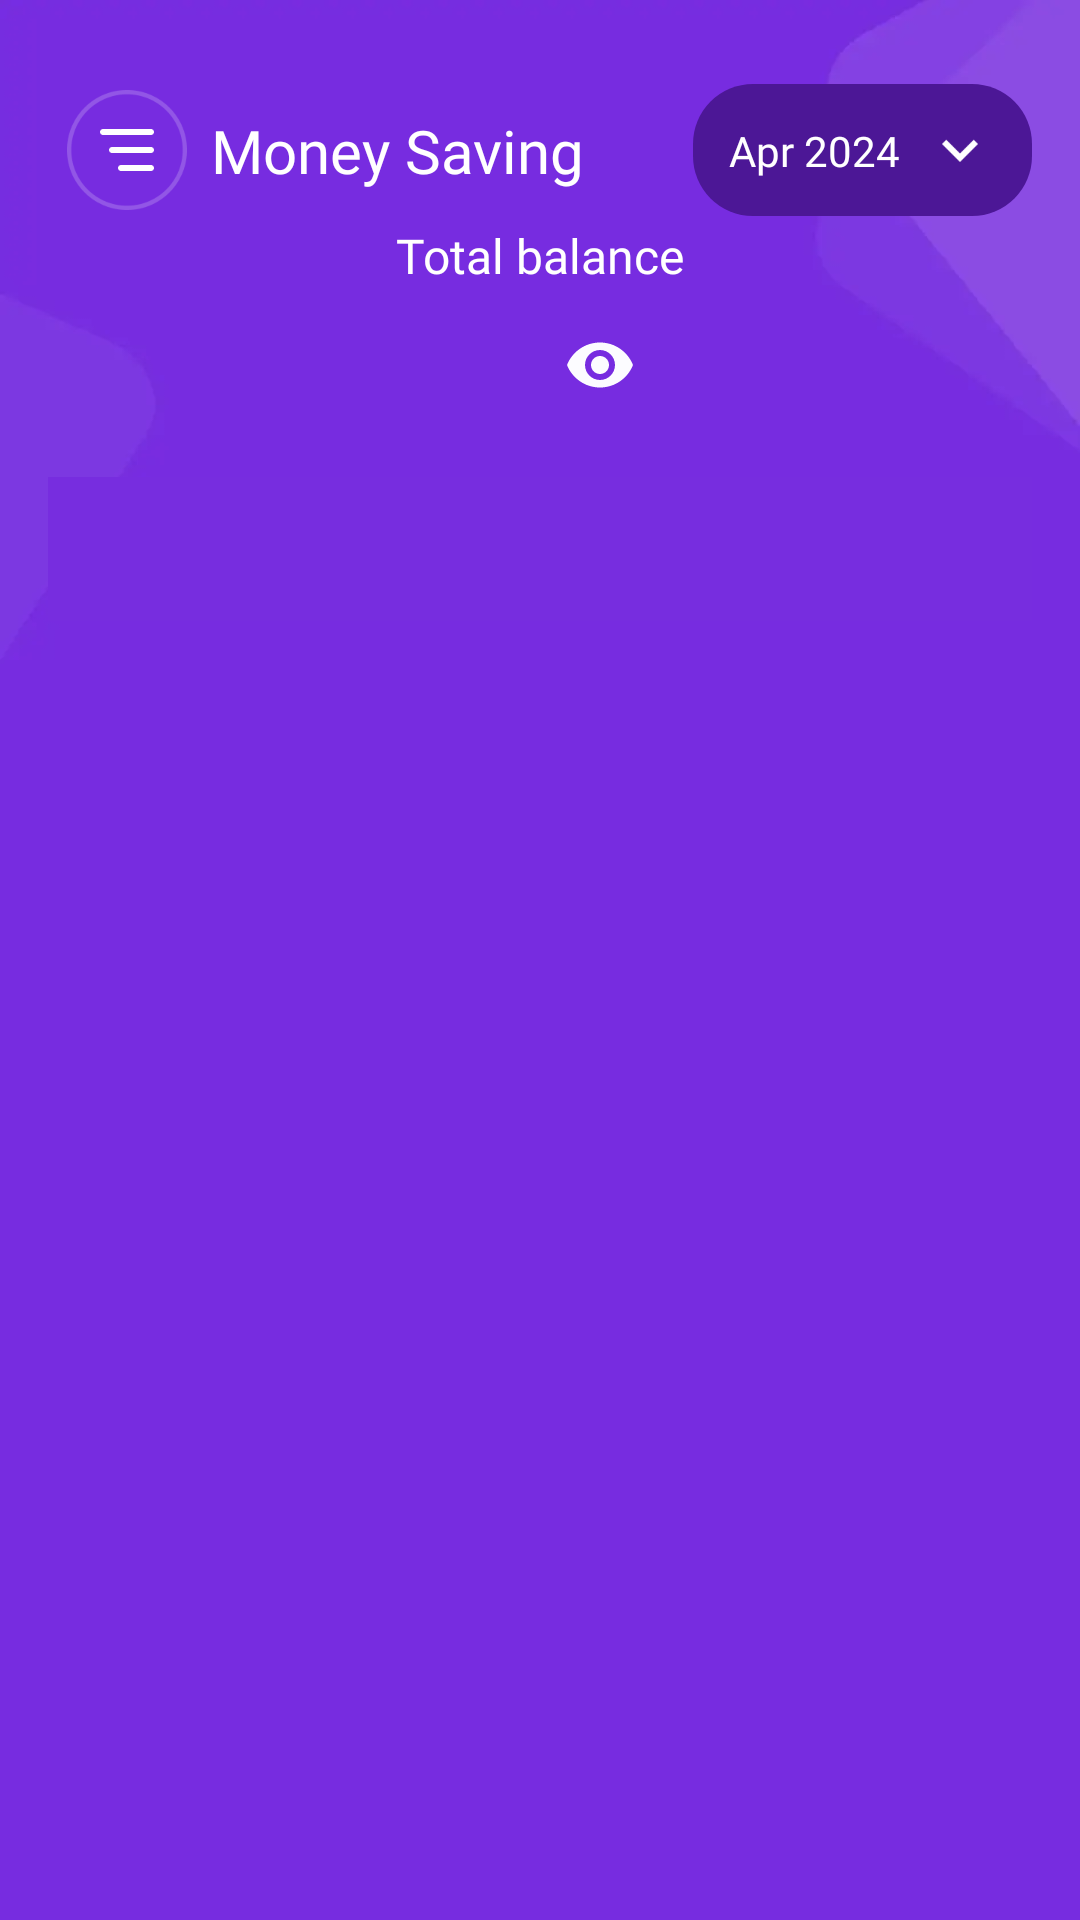

Point at icon controls on the screen. Image size 1080*1920, points as [x,y].
drop: [960,150]
eye: [600,365]
menu: [127,150]
